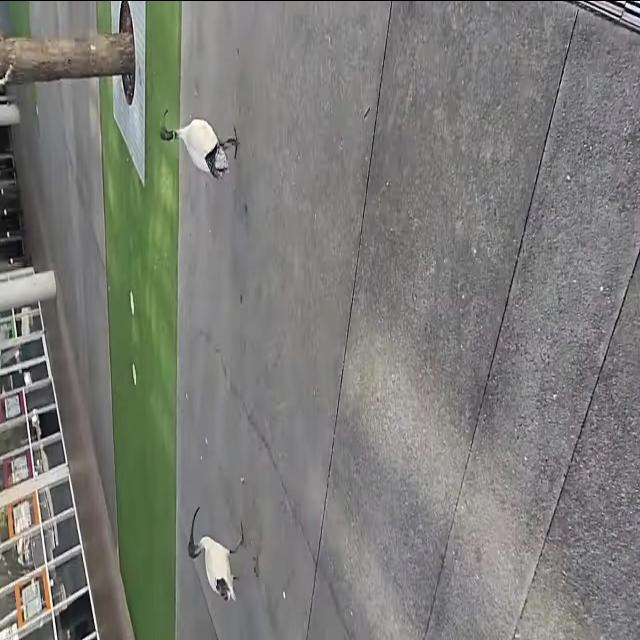Birds-Ibis: (154, 98, 240, 183), (182, 496, 248, 606)
